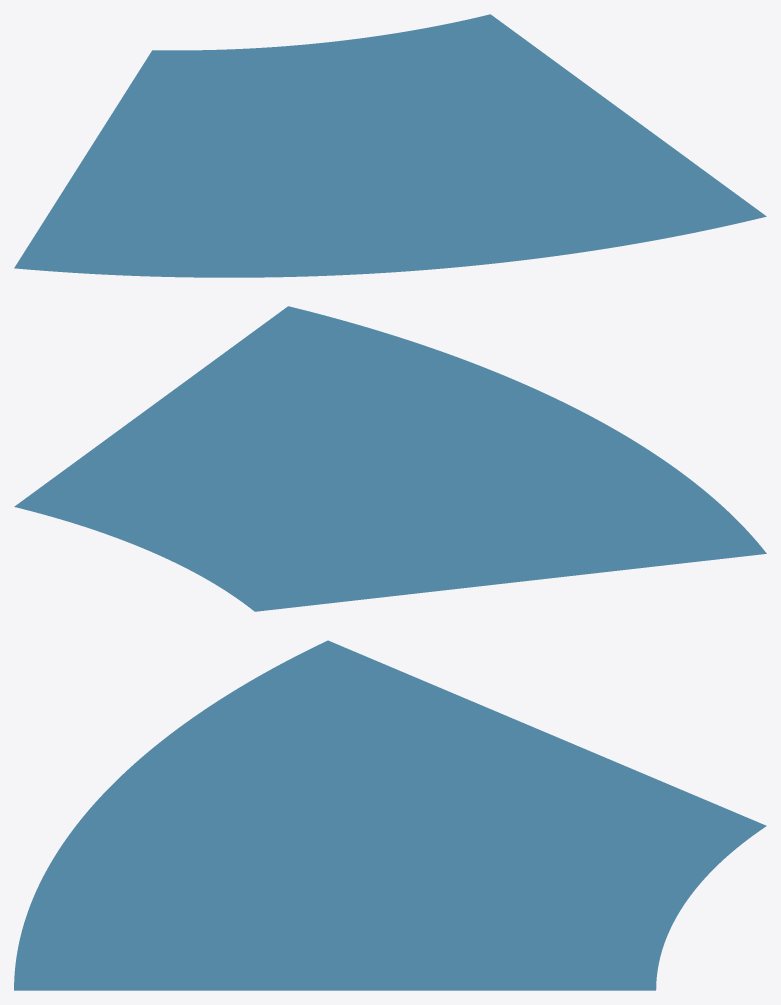
File: SM_Ocean_48.fbx
3 renders of one model, top to bottom at view 1: azimuth 30°, elevation 25°; view 2: azimuth 150°, elevation 25°; view 3: azimuth 270°, elevation 25°, orthographic. The views are drawn at different scales.
Parts seen in each view (by area): view 1: SM_Ocean_48; view 2: SM_Ocean_48; view 3: SM_Ocean_48.
Part boxes in pixels (box(x1,y1,x2,y2)): SM_Ocean_48: box(14, 14, 766, 277); SM_Ocean_48: box(14, 306, 766, 611); SM_Ocean_48: box(14, 640, 766, 990).
Size of the model in its own units: 91017 by 0 by 82714.
